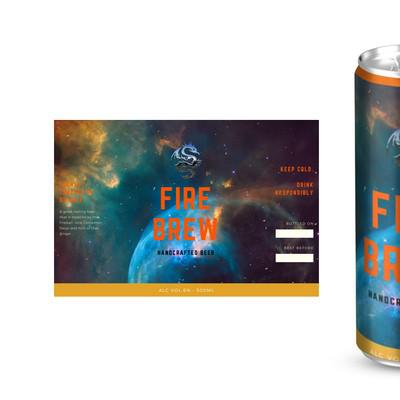beer: (355, 43, 400, 368)
